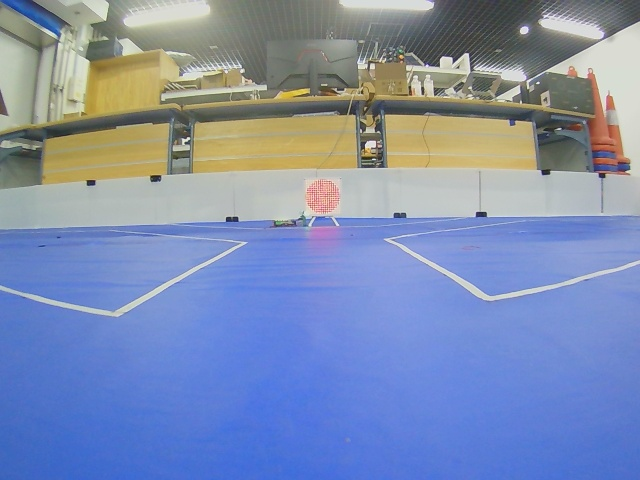red: (305, 178, 341, 216)
